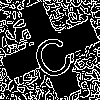C: (25, 25, 77, 82)
